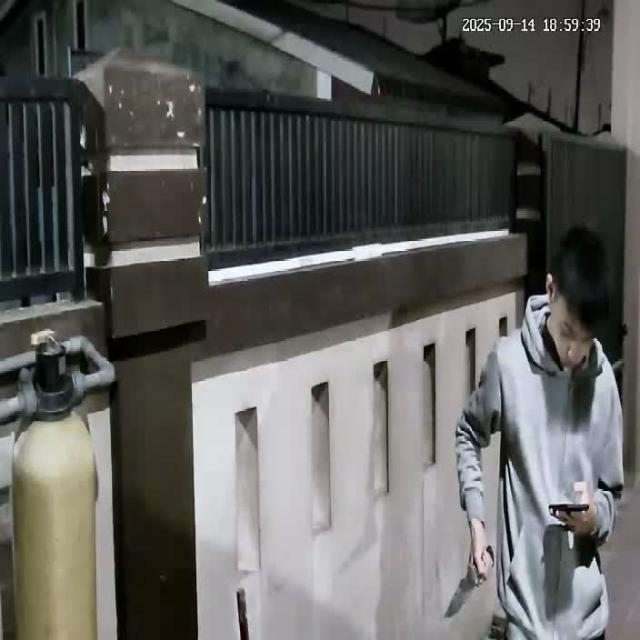senjata_tajam: (442, 562, 479, 621)
